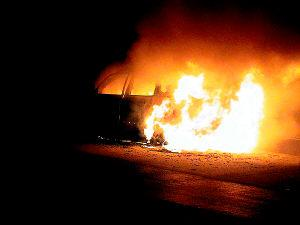fire: (141, 68, 275, 152)
